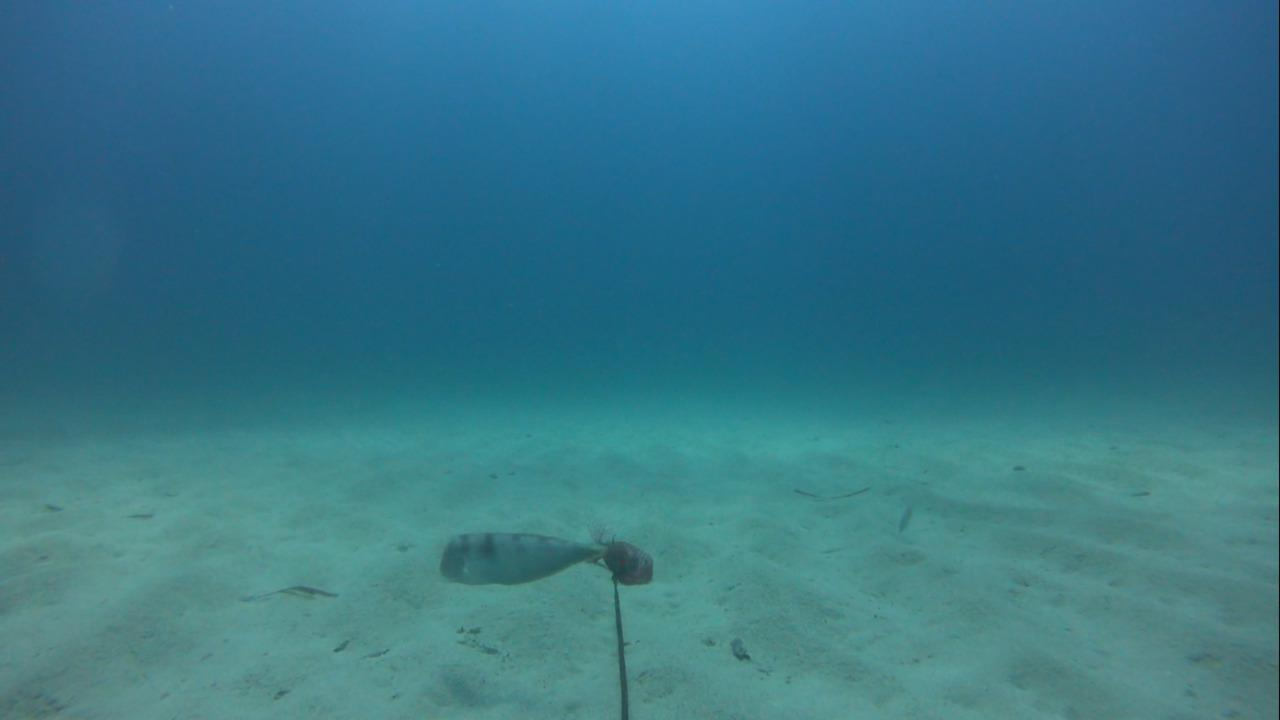raor: (436, 529, 610, 588)
